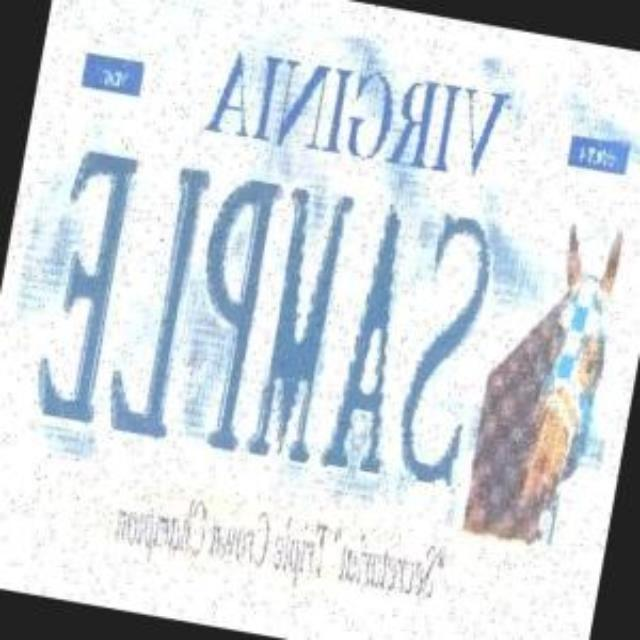License Plate: (16, 101, 514, 517)
